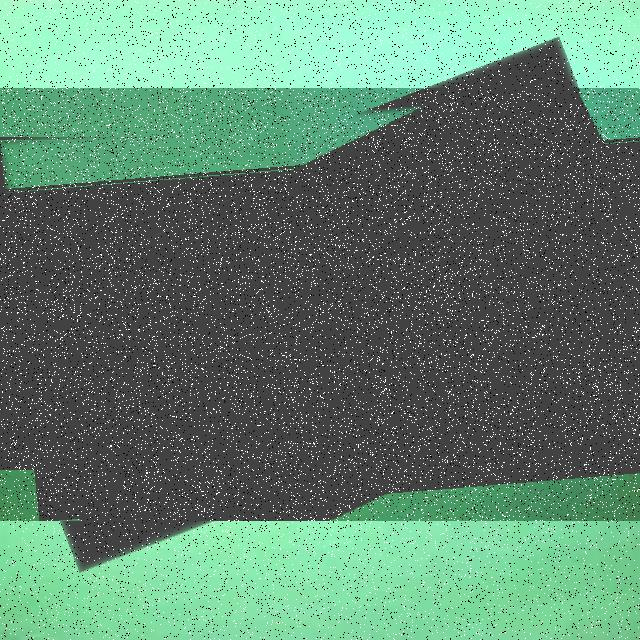lima puluh ribu rupiah: (0, 88, 640, 521)
